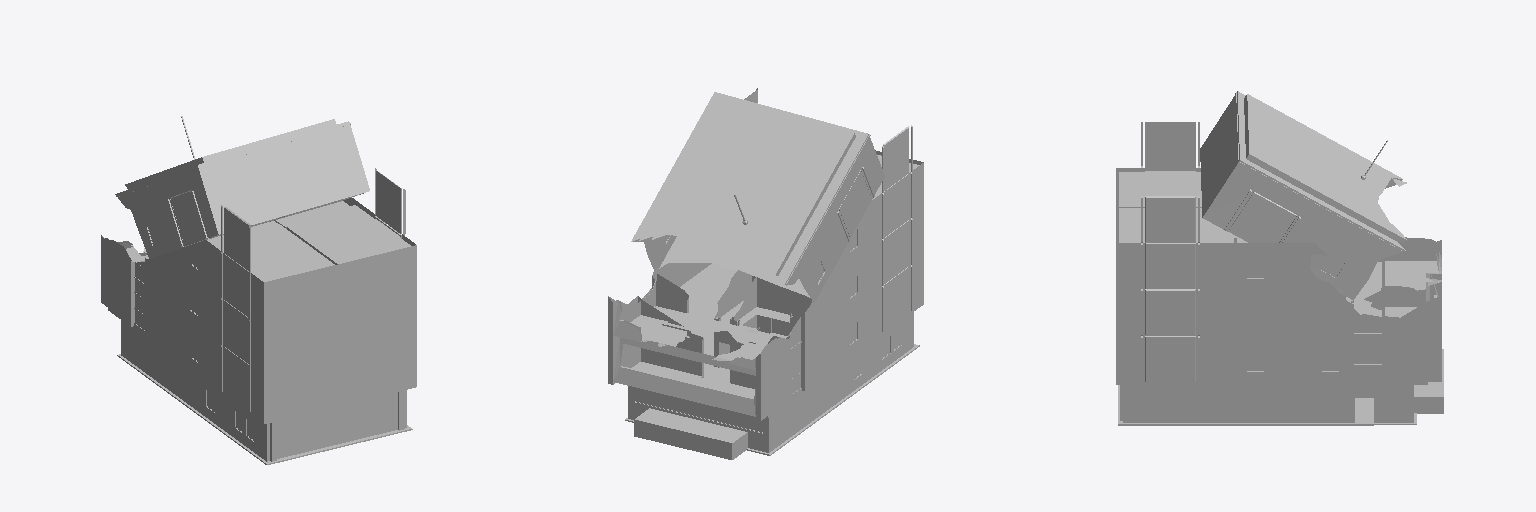
File: Building 4.obj
3 views of the same model, side by side, from view 1: azimuth 30°, elevation 25°; view 2: azimuth 150°, elevation 25°; view 3: azimuth 270°, elevation 25° (orthographic).
Visible parts, largest first — view 1: Residential_Buildings_003_Cube.011; view 2: Residential_Buildings_003_Cube.011; view 3: Residential_Buildings_003_Cube.011.
Boxes of the visible parts, box(x1,y1,x2,y2) form: Residential_Buildings_003_Cube.011: box(101, 116, 416, 464); Residential_Buildings_003_Cube.011: box(608, 88, 923, 459); Residential_Buildings_003_Cube.011: box(1116, 91, 1443, 425).
Bounding box in the file's own units: 4.24 × 6.71 × 7.51.